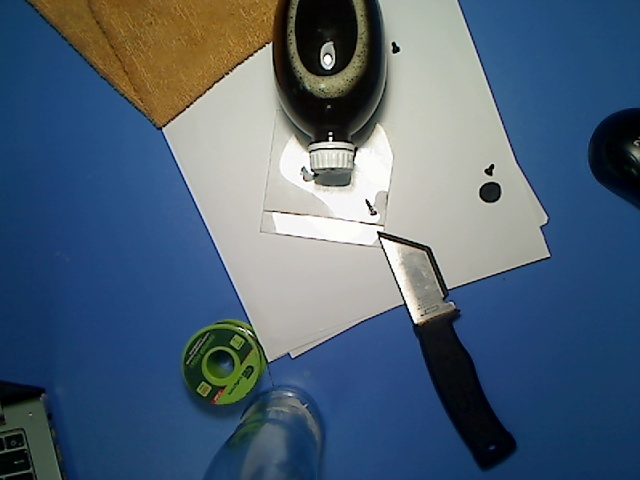plast_bottle: (268, 1, 391, 181)
